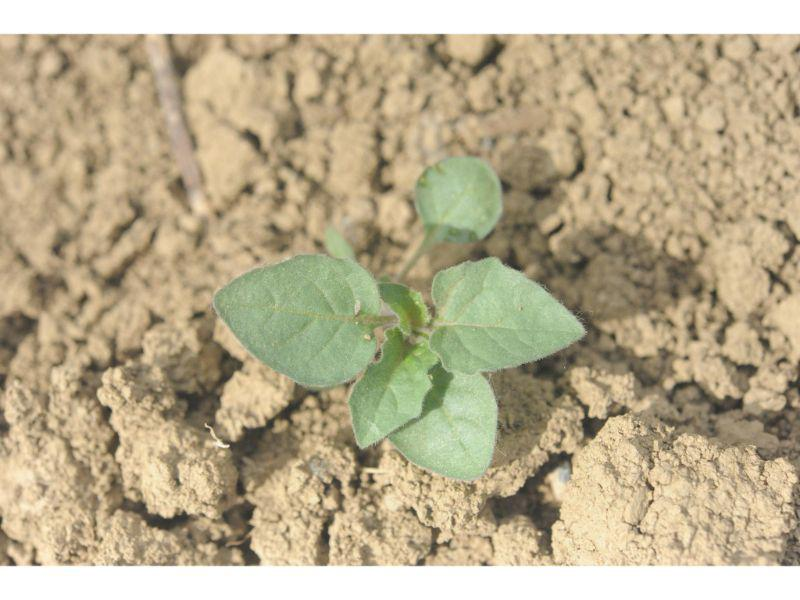nightshade: (212, 156, 587, 479)
